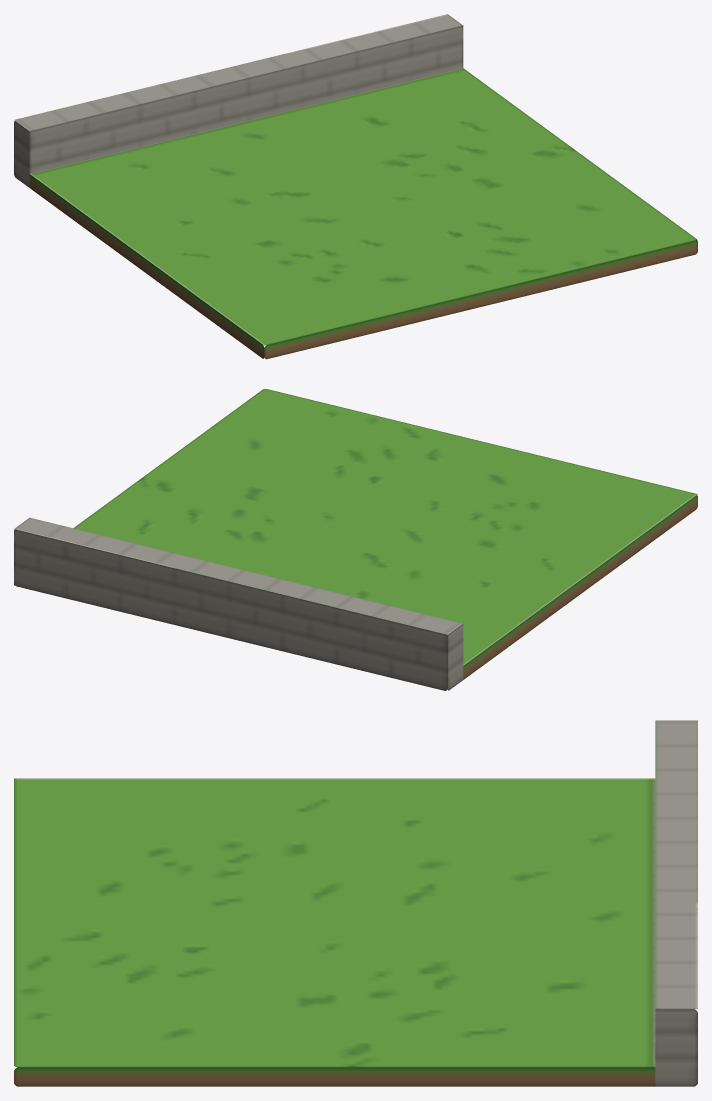
File: Parque_Borde_Murete.fbx
The picture shows the model from 3 angles, top to bottom: view 1: azimuth 30°, elevation 25°; view 2: azimuth 150°, elevation 25°; view 3: azimuth 270°, elevation 25°; orthographic projection. The views are drawn at different scales.
Visible parts, largest first — view 1: Parque_Borde_Murete; view 2: Parque_Borde_Murete; view 3: Parque_Borde_Murete.
Boxes of the visible parts, left/top/right/bottom form: Parque_Borde_Murete: left=14, top=14, right=697, bottom=359; Parque_Borde_Murete: left=14, top=389, right=697, bottom=690; Parque_Borde_Murete: left=14, top=720, right=697, bottom=1086.
Bounding box in the file's own units: 3 × 0.375 × 3.
Materials: 1 (1 with a texture image).
